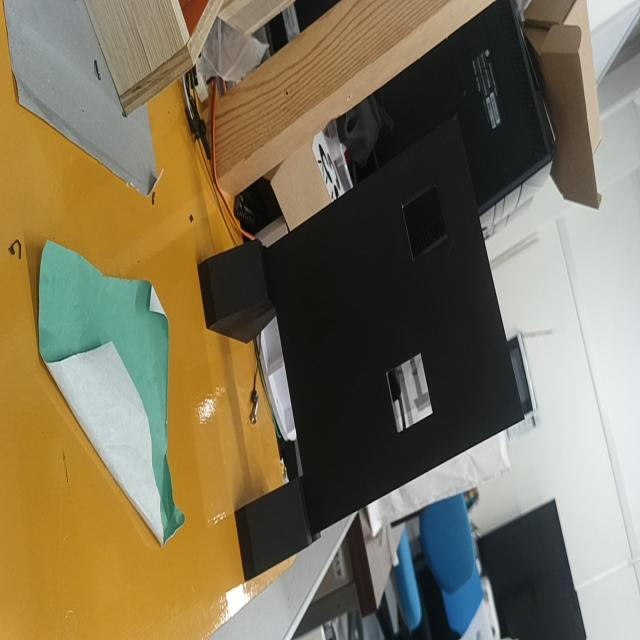Obstacle: (388, 353, 432, 434), (403, 187, 446, 260)
Wall: (267, 113, 524, 535)
